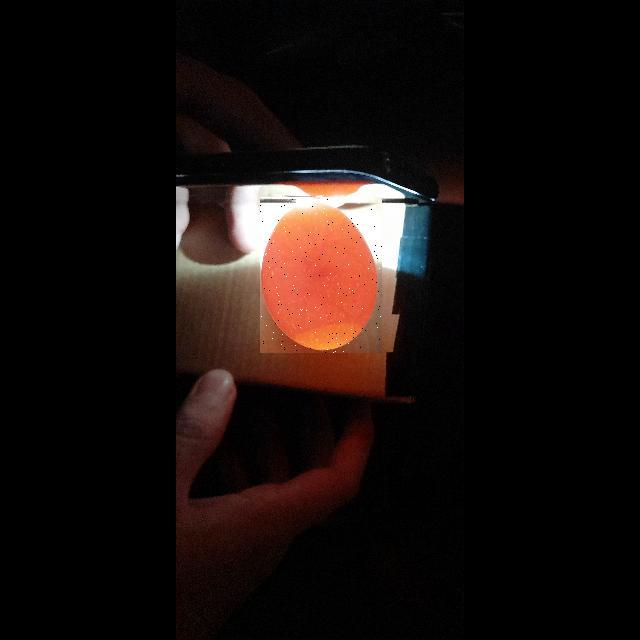Fertile: (260, 197, 382, 353)
